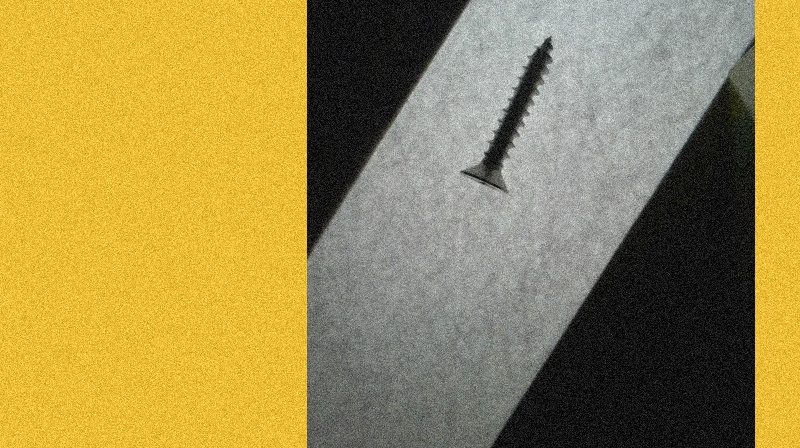S001: (458, 32, 560, 196)
